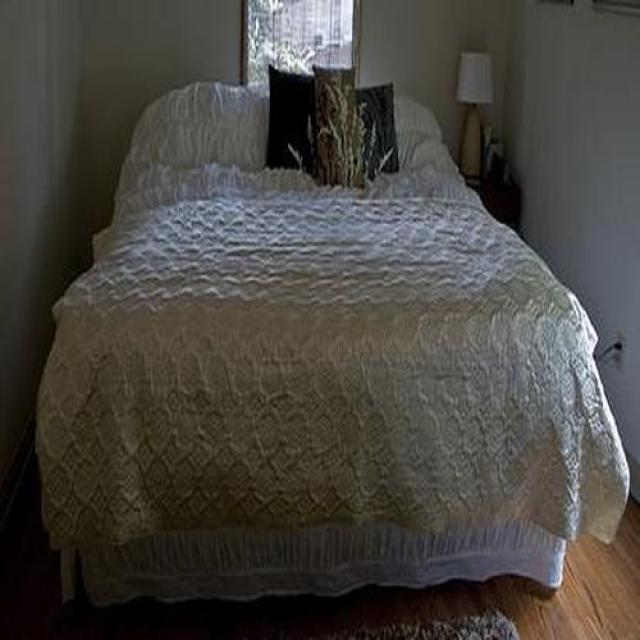bed: (35, 69, 628, 566)
